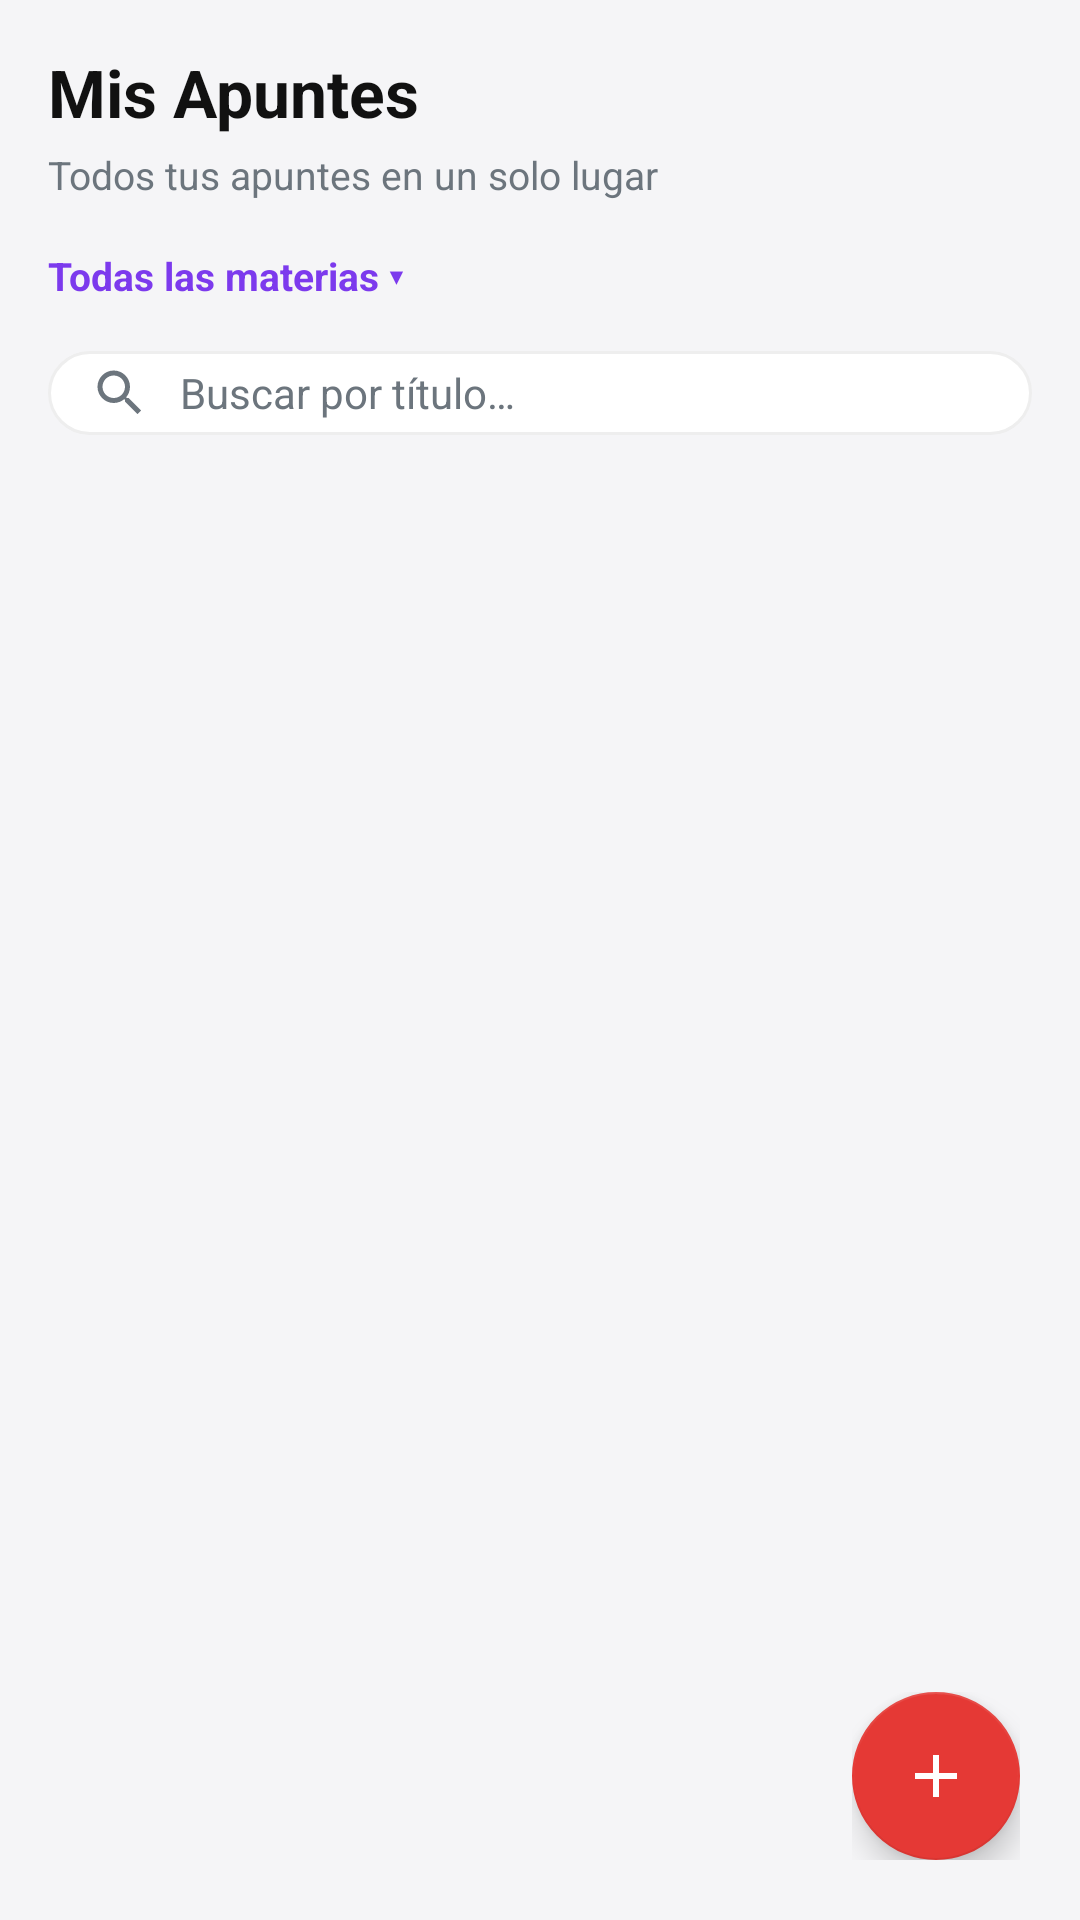

Icon click points for this 1080px×1920px phone screenshot, format point (x, y):
Crear: point (936, 1776)
